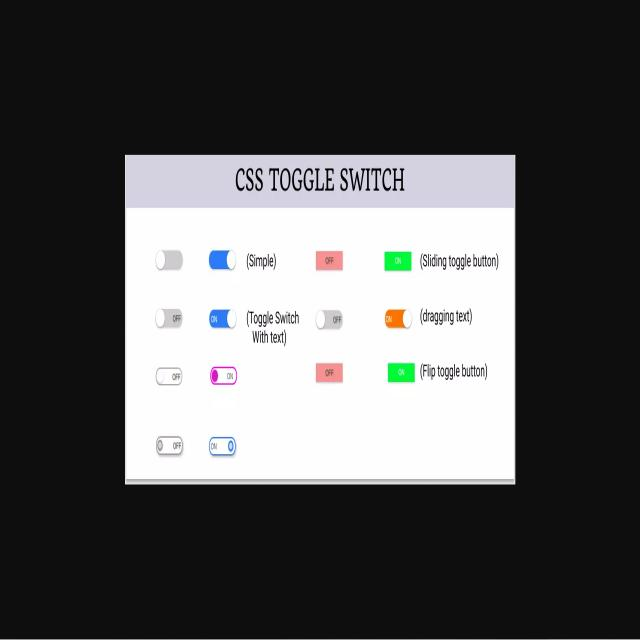toggle: (153, 303, 185, 330), (155, 247, 186, 274), (314, 308, 346, 333), (208, 307, 238, 332), (207, 247, 238, 271), (154, 365, 183, 389), (384, 307, 413, 331), (210, 364, 238, 388), (208, 434, 237, 457), (156, 434, 183, 456)
